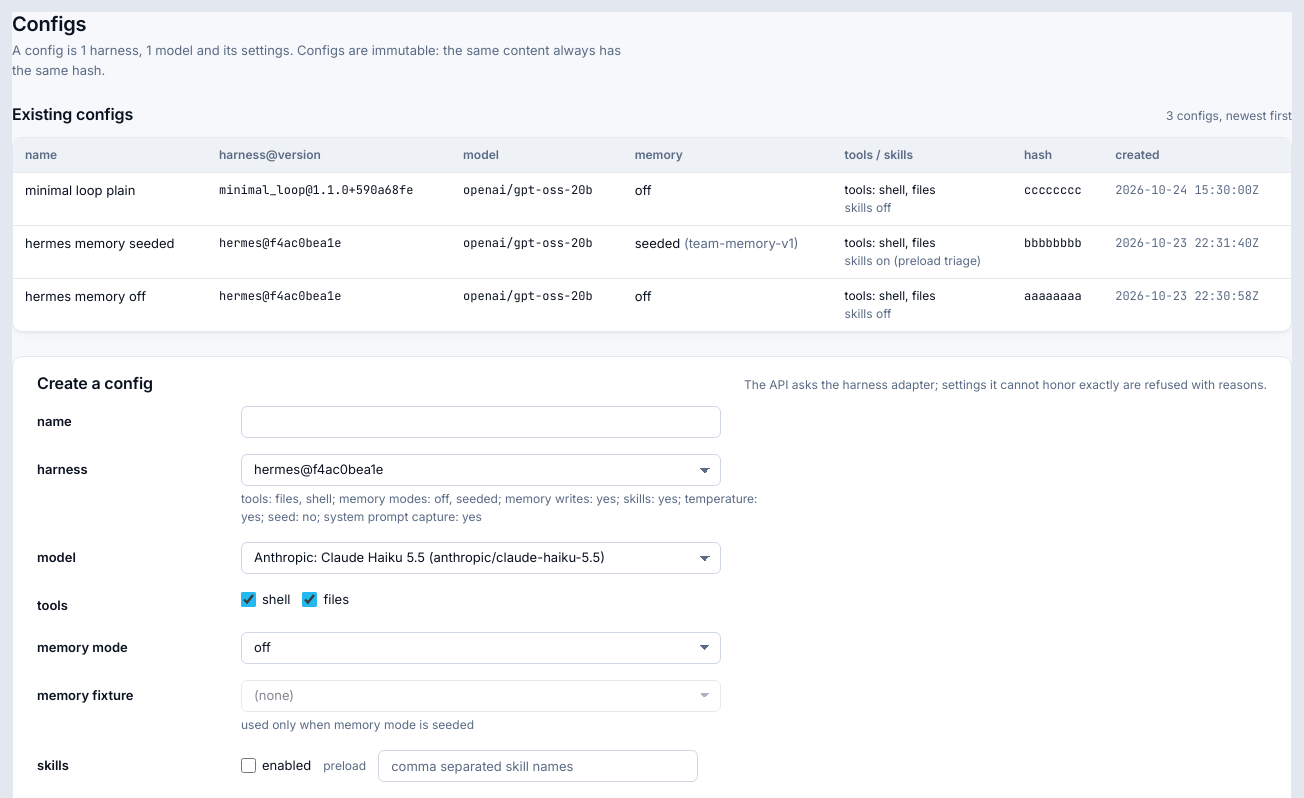
ConfigsView form options › shows the capabilities of the selected harness as plain text and does not disable skills for a harness without them
This screenshot has width=1304, height=798.
Check: the text with class "harness-hint" shows "skills: yes", box [241,491,758,524]
Select "minimal_loop@1.1.0+590a68fe" in the dropdown with id "cfg-harness" at {"x": 481, "y": 470}, box [241,454,721,486]
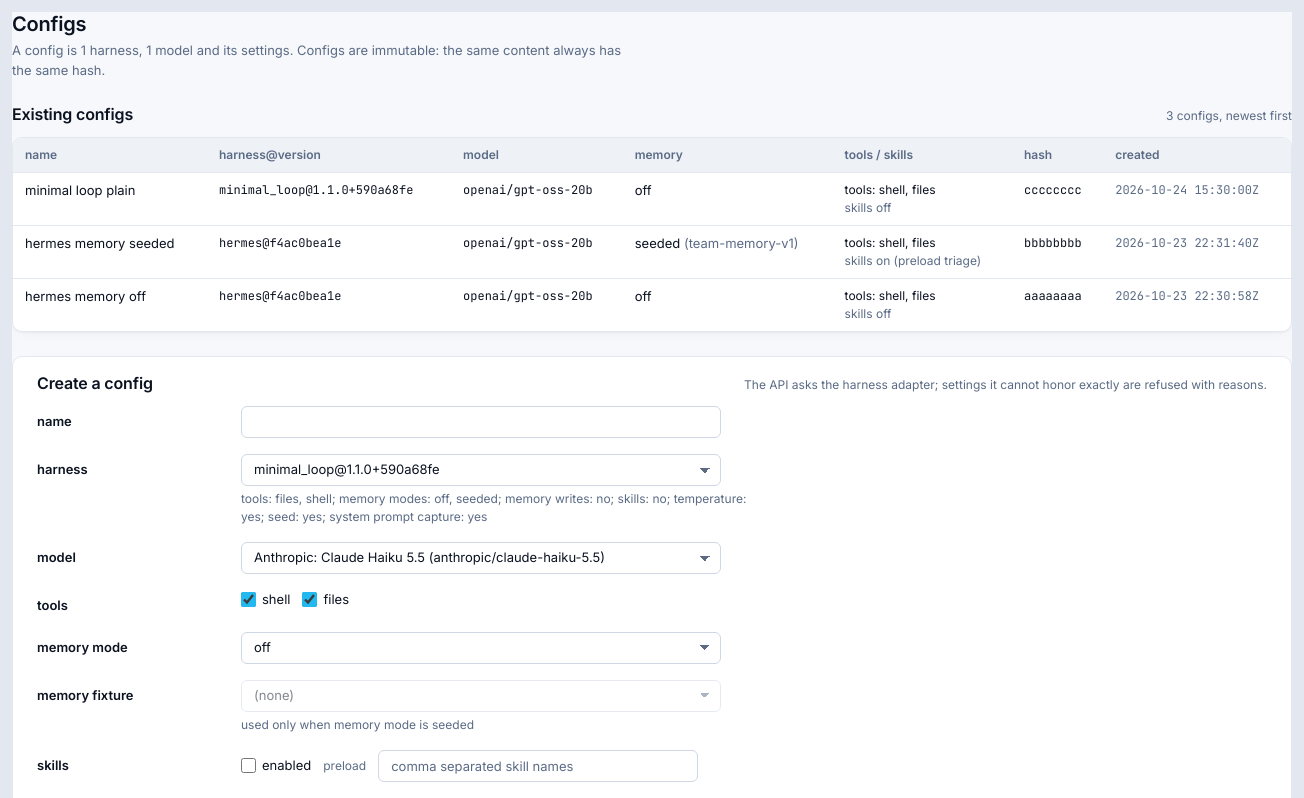
Check: the checkbox with id "cfg-skills" is enabled, box [241,758,256,773]
Check: the text with class "harness-hint" shows "skills: no", box [241,491,746,524]
